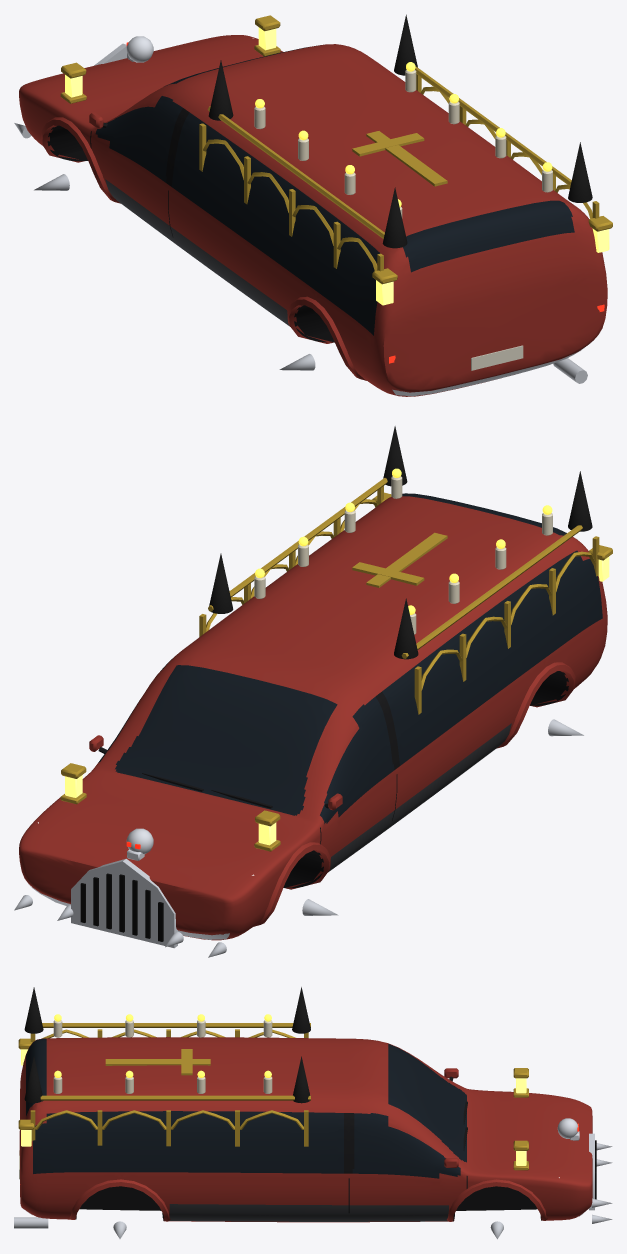
Rendered from car_undertaker.glb.
The picture shows the model from 3 angles, top to bottom: view 1: azimuth 30°, elevation 25°; view 2: azimuth 150°, elevation 25°; view 3: azimuth 270°, elevation 25°; orthographic projection. The views are drawn at different scales.
Parts seen in each view (by area): view 1: body, parts, lips, strip3; view 2: body, parts, lips; view 3: body, parts, lips.
Part boxes in pixels (x1,y1,x2,y2): body: [19, 35, 607, 396]; parts: [14, 14, 612, 383]; lips: [40, 117, 366, 380]; strip3: [392, 343, 590, 396]; body: [19, 493, 607, 940]; parts: [14, 426, 612, 957]; lips: [253, 662, 575, 926]; body: [19, 1037, 592, 1222]; parts: [14, 987, 612, 1239]; lips: [69, 1179, 547, 1221].
Size of the model in its own units: 2.84 by 2.04 by 6.27.
